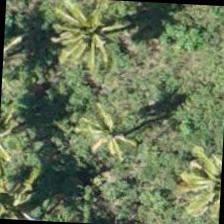Kelapa_Sawit: (65, 94, 160, 190), (42, 0, 137, 78), (166, 139, 222, 223), (0, 155, 47, 220)
